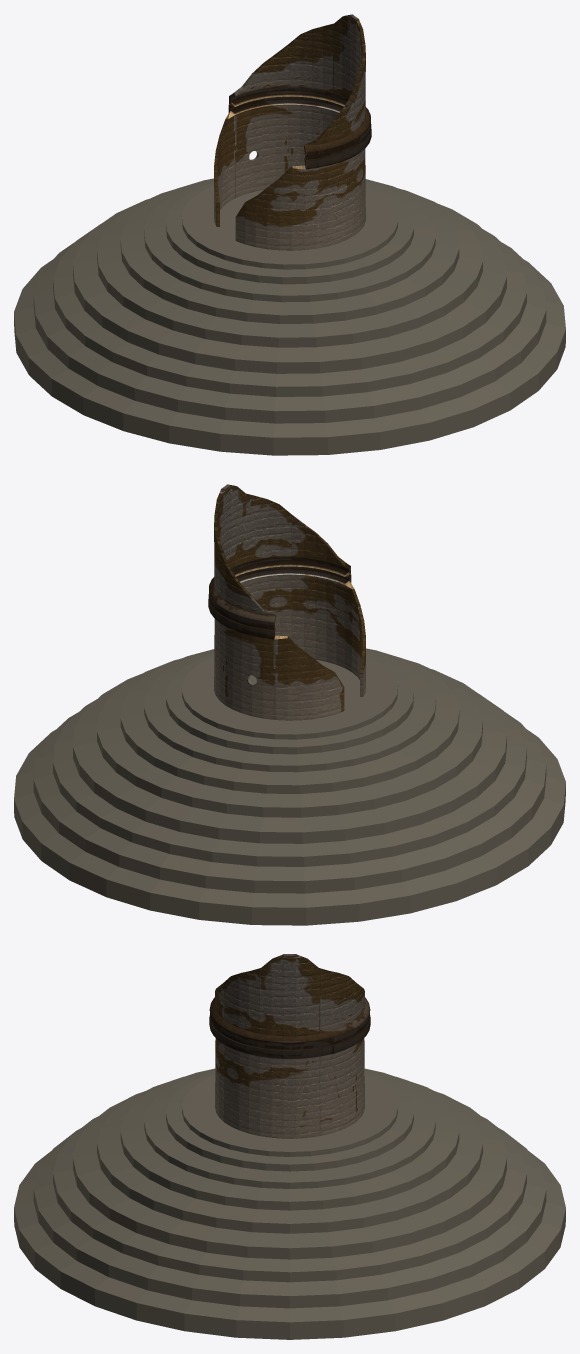
The model's file is asset.glb.
3 views of the same model, one above another, from view 1: azimuth 30°, elevation 25°; view 2: azimuth 150°, elevation 25°; view 3: azimuth 270°, elevation 25° (orthographic).
Visible parts, largest first — view 1: Cylinder; view 2: Cylinder; view 3: Cylinder.
Part boxes in pixels (x1=…): Cylinder: x1=14, y1=14, x2=565, y2=455; Cylinder: x1=14, y1=484, x2=565, y2=925; Cylinder: x1=14, y1=954, x2=565, y2=1339.
Size of the model in its own units: 26.35 by 16.14 by 26.78.
Materials: 2 (1 with a texture image).
